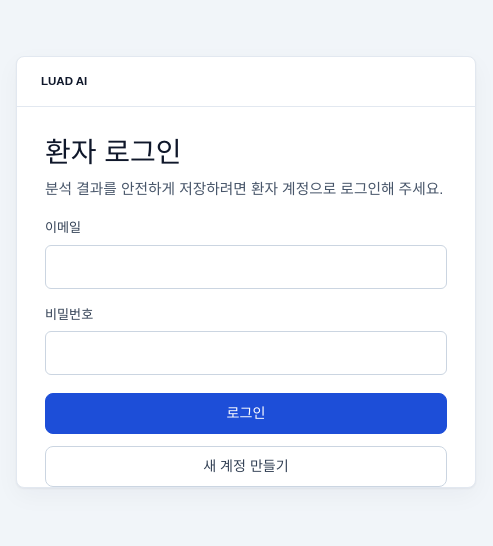
Test: allows retry after a network exception without exposing its message
Type "test@example.com" into the field labelled "이메일".
click(246, 267); type("test@example.com")  # box [45, 245, 447, 289]
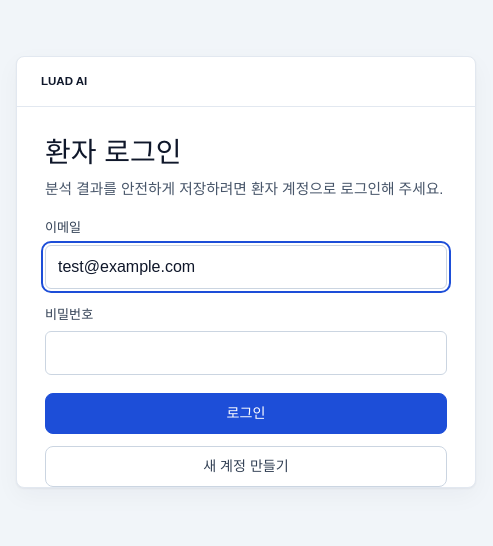
Type "test-password" into the password field labelled "비밀번호".
click(246, 353); type("test-password")  # box [45, 331, 447, 375]
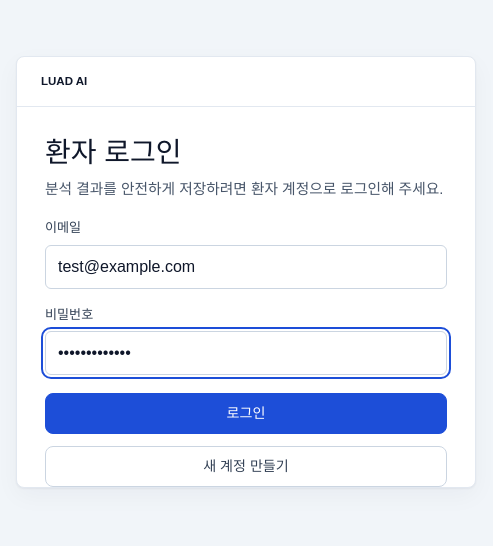
Click the button "로그인".
click(246, 414)  # box [45, 393, 447, 434]
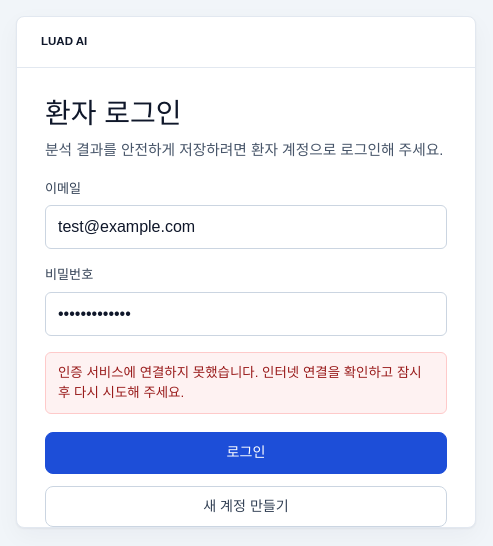
expect the button "로그인" is enabled: met, box [45, 432, 447, 474]
expect the text "인증 서비스에 연결하지 못했습니다. 인터넷 연결을 확인하고 잠시 후 다시 시도해 주세요." is shown: met, box [45, 352, 447, 414]
